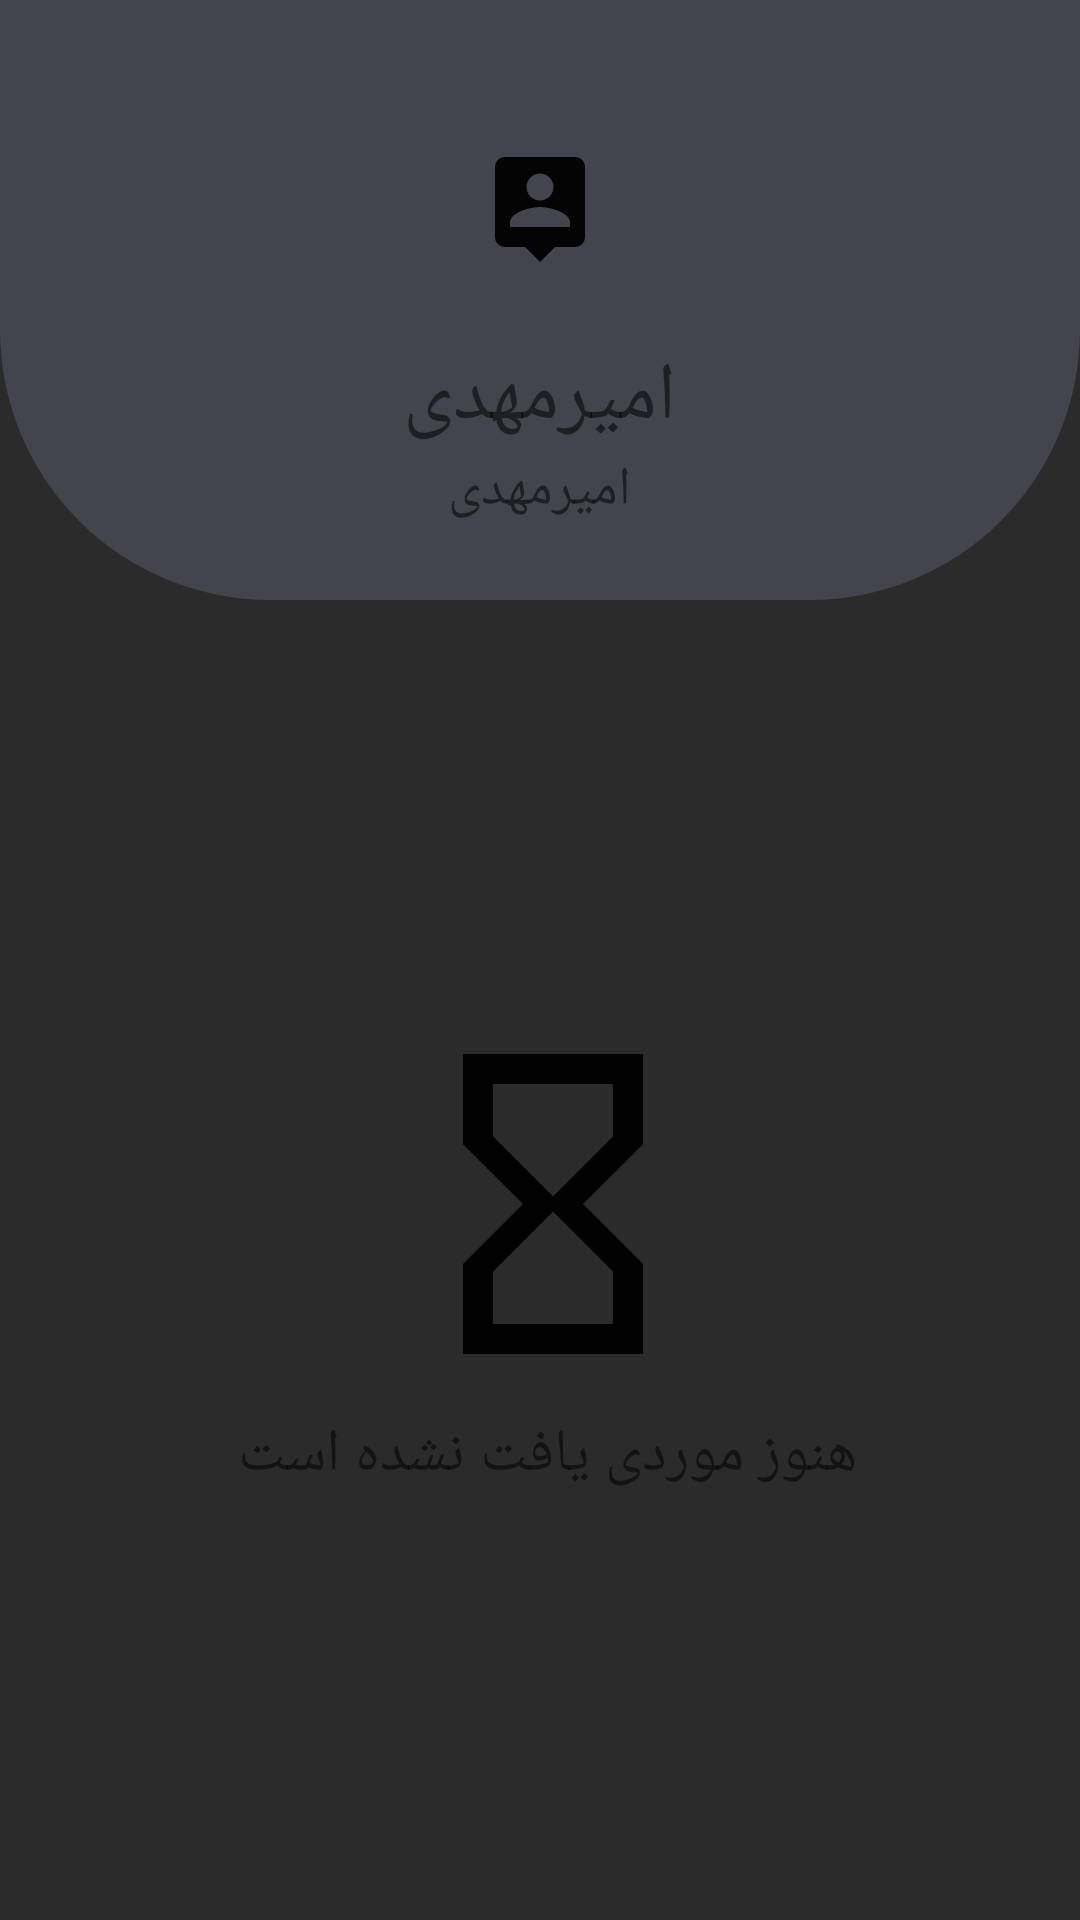

Icon bounding boxes for this 1080x1920 phone screenshot, format bbox(x1, y1, x2, y2):
hourglass empty: bbox(463, 1054, 643, 1354)
person pin: bbox(495, 157, 585, 262)
